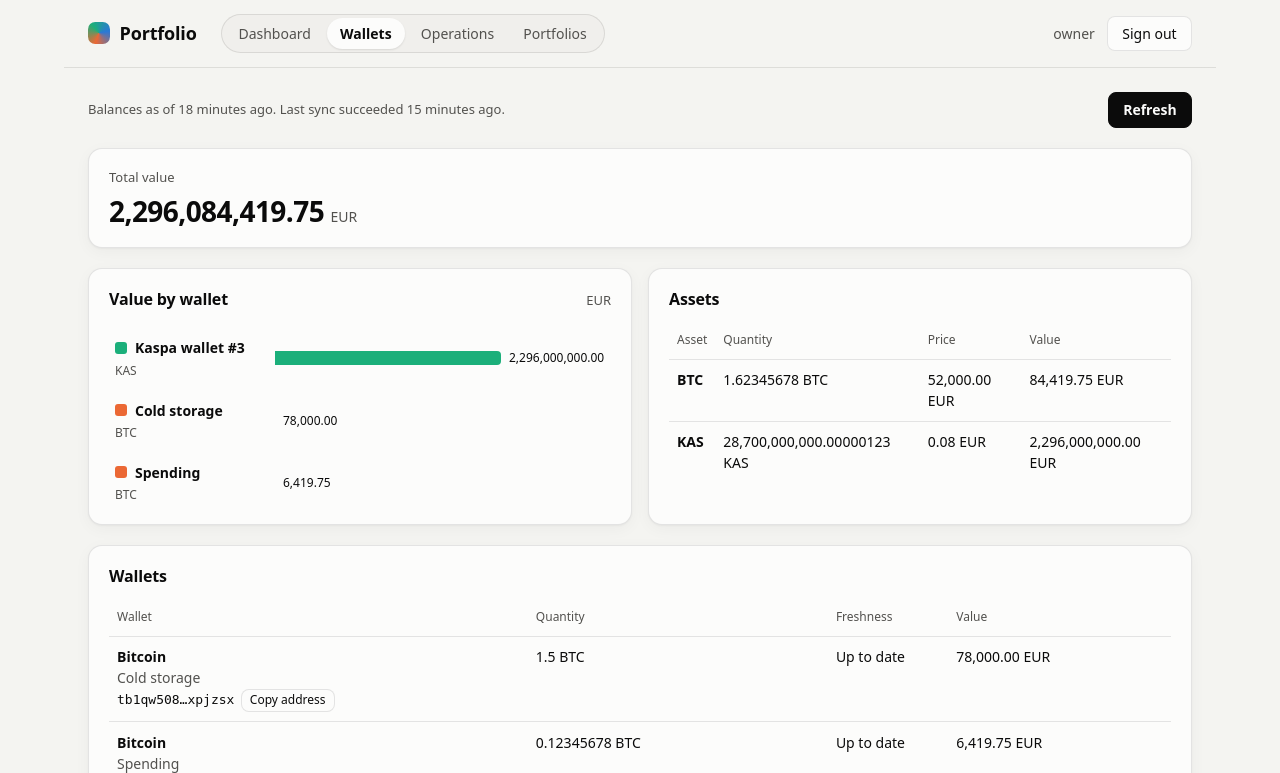
Test: WalletsPage balances: refresh › refresh is disabled while its own request is in flight
This screenshot has width=1280, height=773.
Click the button "Refresh": (1150, 110) x1=1108 y1=92 x2=1192 y2=128
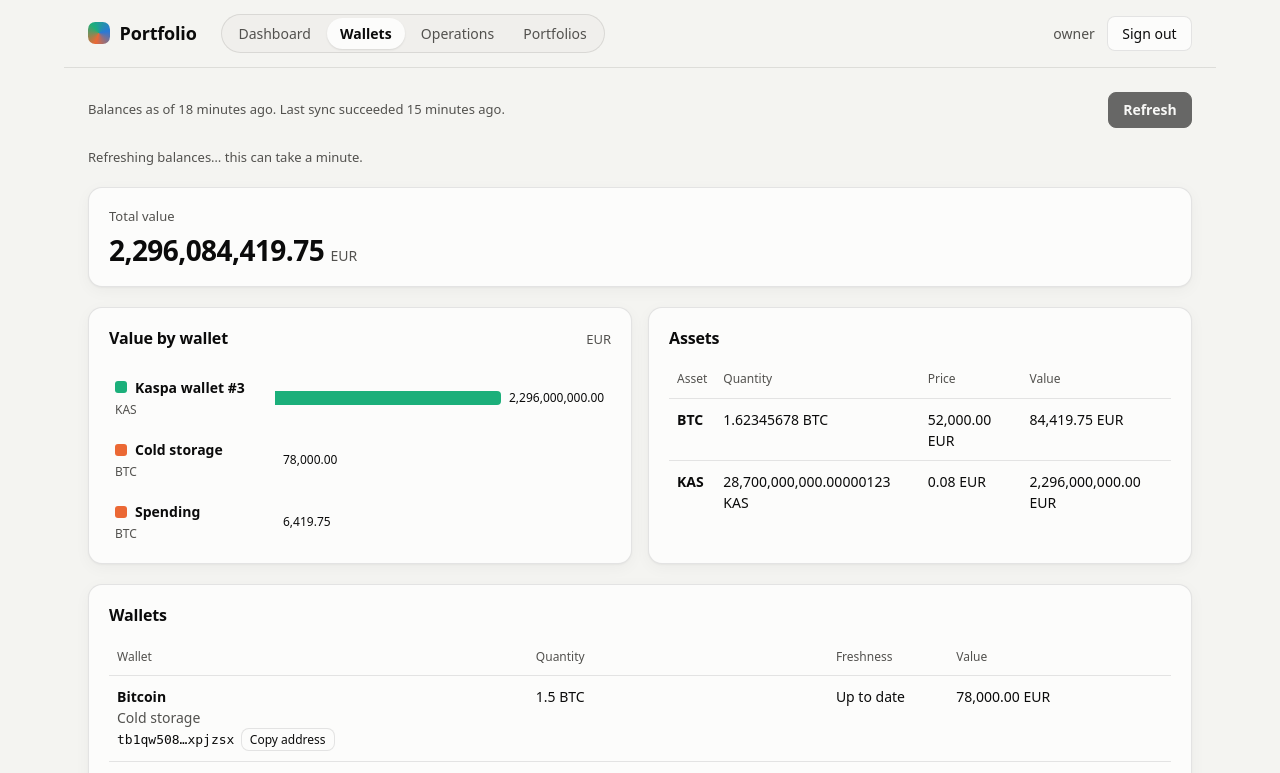
expect the button "Refresh" is disabled: met
expect the message reads "Refreshing balances… this can take a minute.": met, box x1=88 y1=148 x2=363 y2=166
Click the button "Refresh": (1150, 110) x1=1108 y1=92 x2=1192 y2=128
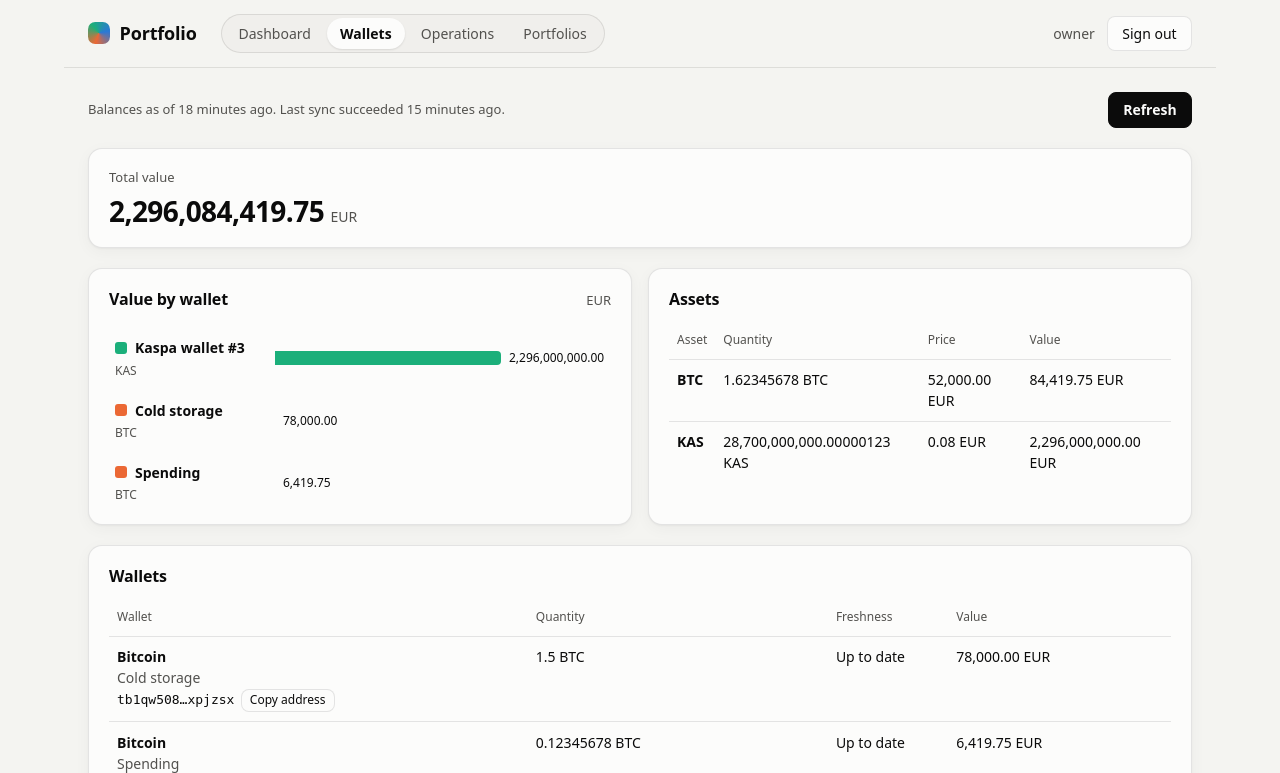
expect the button "Refresh" is enabled: met, box x1=1108 y1=92 x2=1192 y2=128
expect the message "Refreshing balances… this can take a minute." is gone: met
